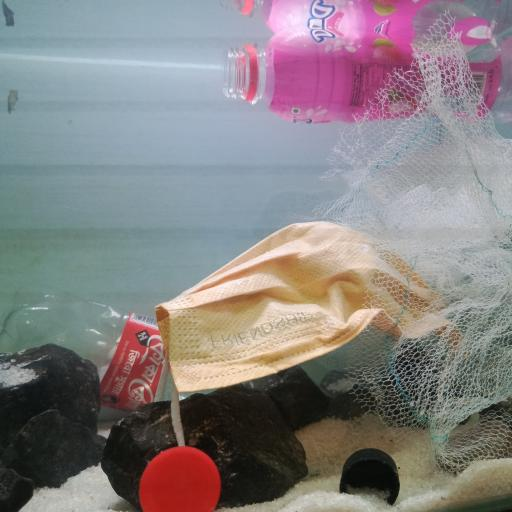bottle_cap: (139, 444, 222, 512), (339, 448, 400, 506)
mask: (155, 221, 484, 413)
net: (313, 10, 512, 474)
plastic_bottle: (0, 281, 221, 412), (225, 26, 506, 125)
